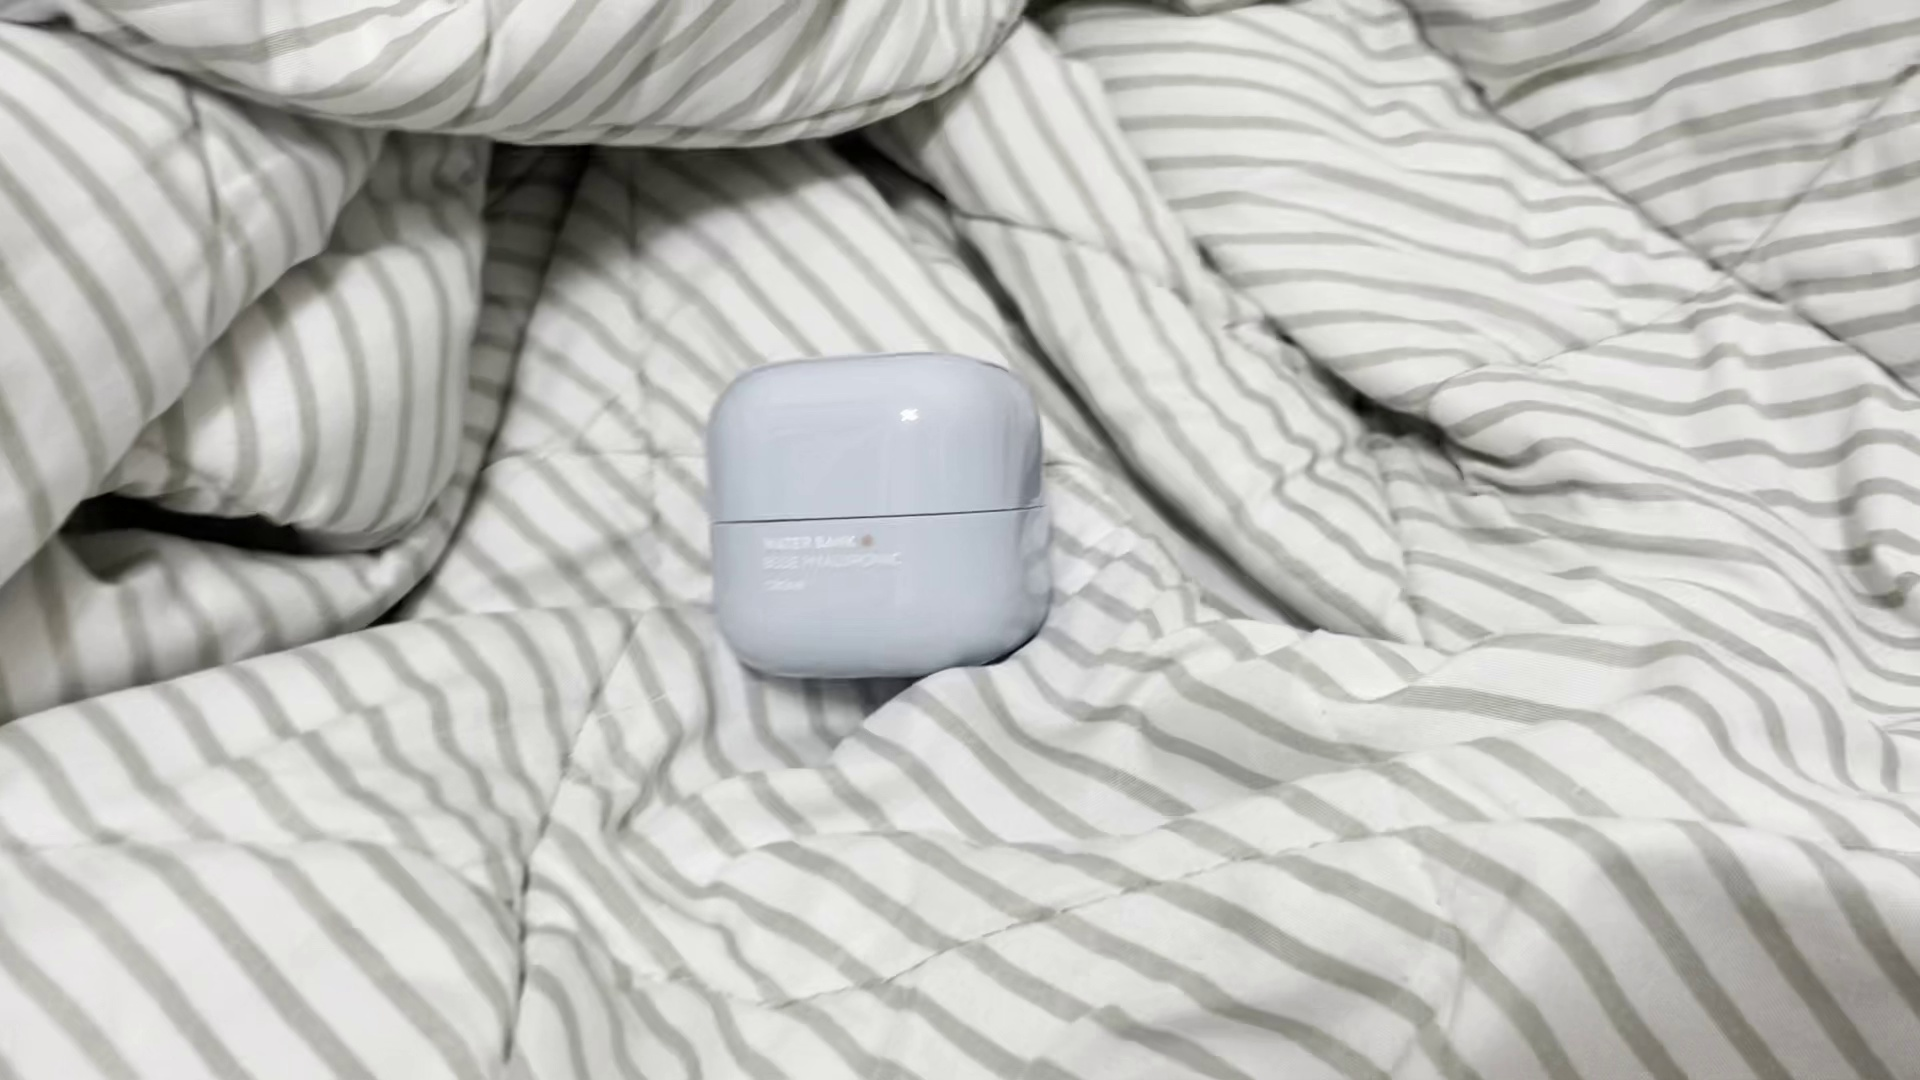cream: (705, 349, 1058, 682)
